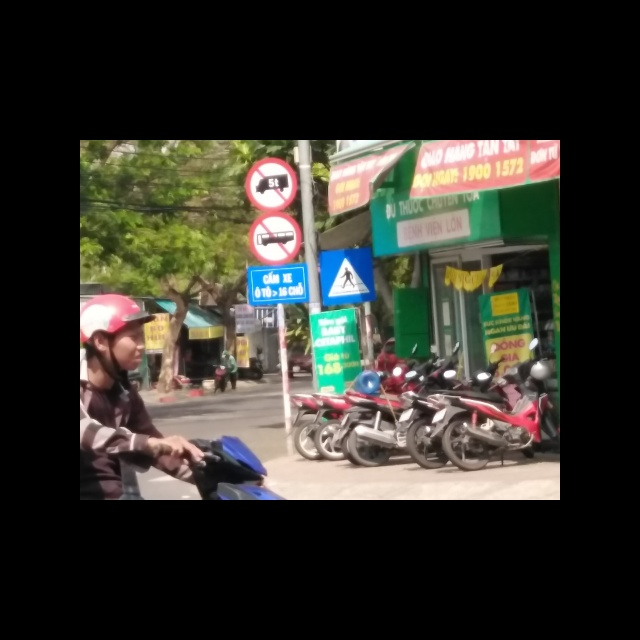Cấm xe tải: (243, 158, 299, 212)
Cấm xe xe khách: (248, 212, 303, 265)
Đường dành cho người đi bộ: (319, 249, 377, 306)
